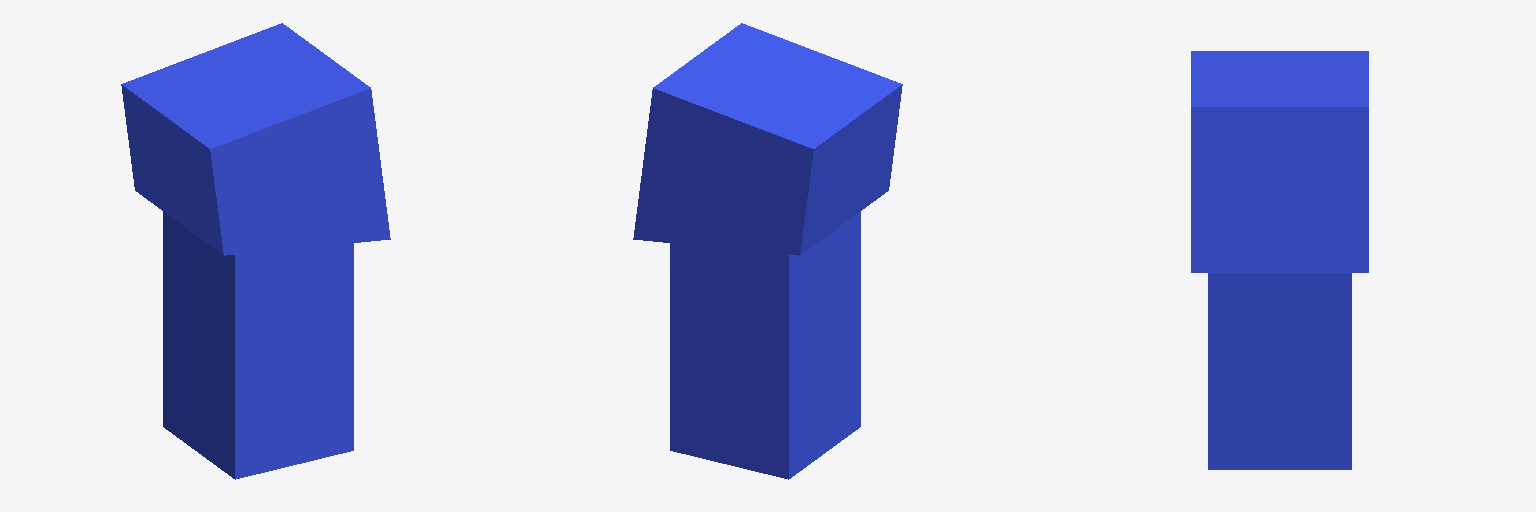
The picture shows the model from 3 angles: view 1: azimuth 30°, elevation 25°; view 2: azimuth 150°, elevation 25°; view 3: azimuth 270°, elevation 25°; orthographic projection.
Visible parts, largest first — view 1: 立方体.001; view 2: 立方体.001; view 3: 立方体.001.
Boxes of the visible parts, box(x1,y1,x2,y2) form: 立方体.001: box(121, 23, 390, 479); 立方体.001: box(633, 23, 902, 479); 立方体.001: box(1191, 51, 1368, 469).
Bounding box in the file's own units: 0.7465 × 1.45 × 0.6368.
Materials: 1 (1 with a texture image).